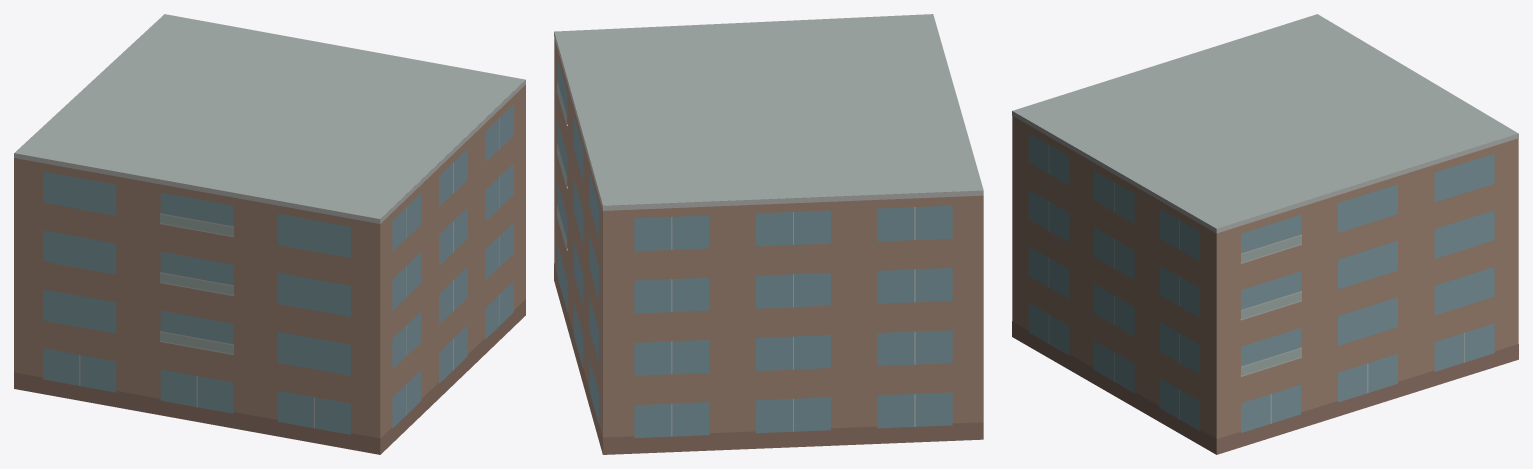
Rendered from survey-upis-32964690.glb.
3 views of the same model, side by side, from view 1: azimuth 30°, elevation 25°; view 2: azimuth 150°, elevation 25°; view 3: azimuth 270°, elevation 25° (orthographic). The views are drawn at different scales.
Parts seen in each view (by area): view 1: survey-upis-32964690.tmp; view 2: survey-upis-32964690.tmp; view 3: survey-upis-32964690.tmp.
Boxes of the visible parts, x1,y1,x2,y2 form: survey-upis-32964690.tmp: (14, 14, 525, 454); survey-upis-32964690.tmp: (554, 14, 983, 454); survey-upis-32964690.tmp: (1012, 14, 1518, 454).
Size of the model in its own units: 24.26 by 11.9 by 24.18.
